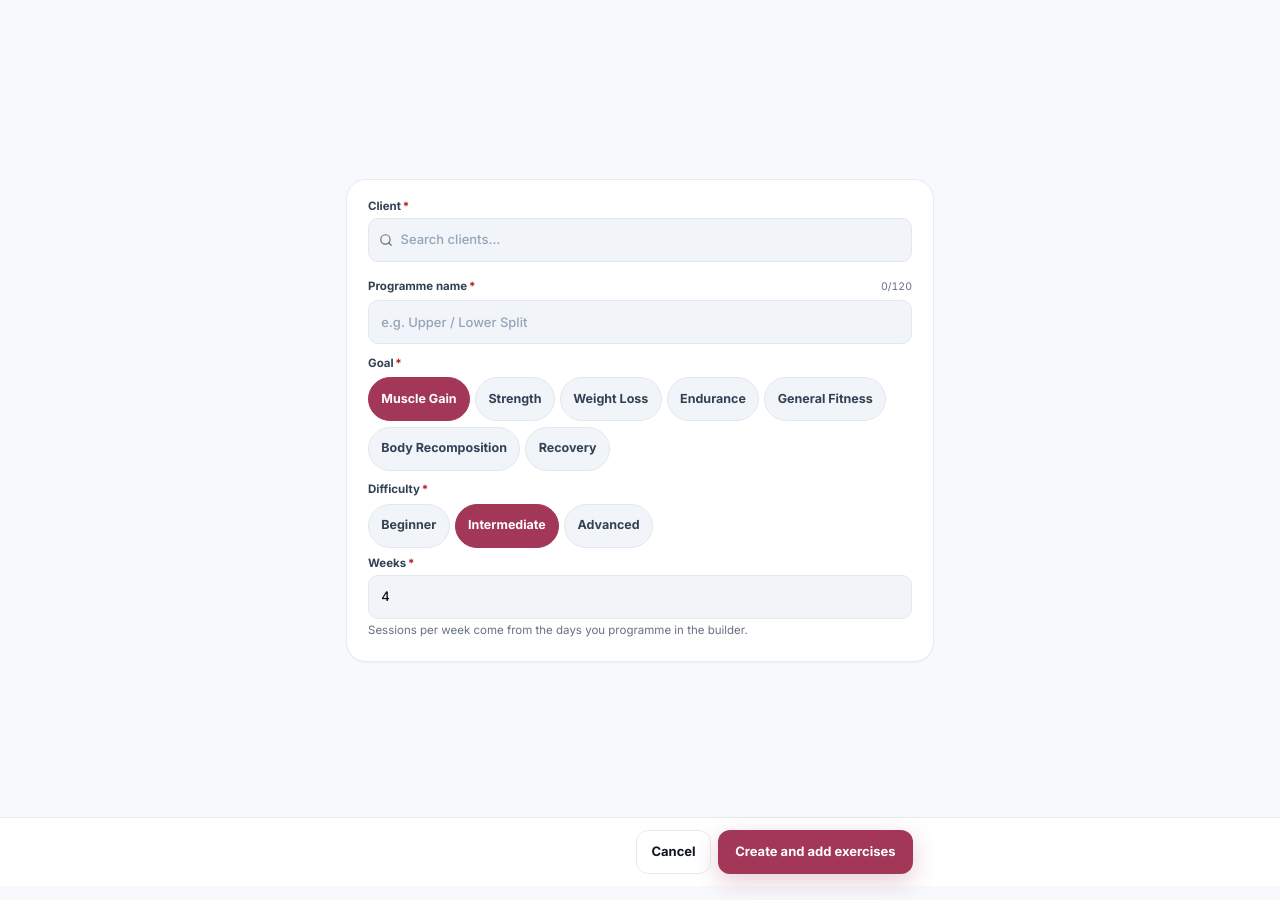
Scenario: NewProgrammeForm — the replacement for the deleted wizard › refuses to create without a client
Step 1. Type "Upper / Lower" into the field with placeholder "e.g. Upper / Lower Split" → (640, 322), box [368,300,912,344]
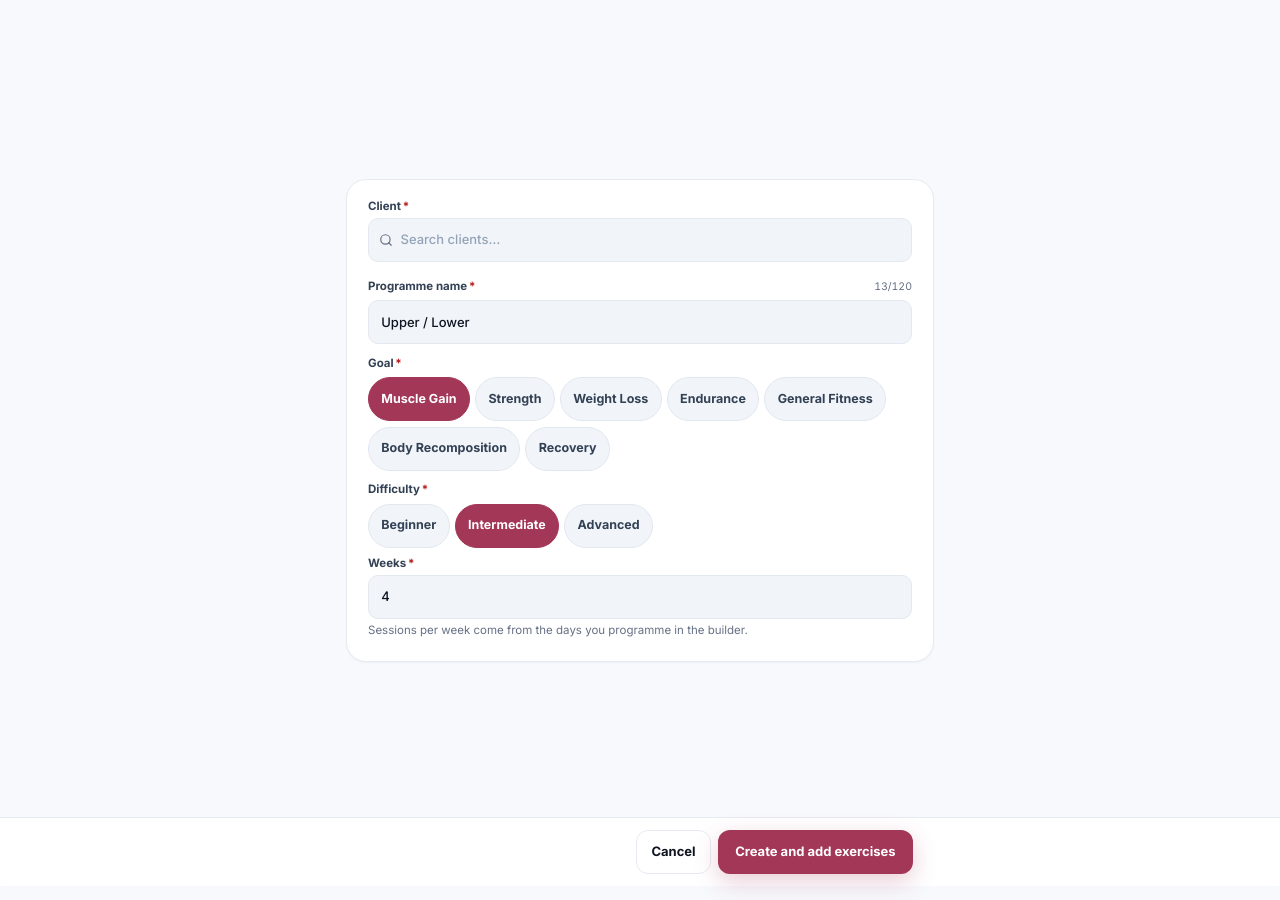
Step 2. Click the button "Create and add exercises" → (815, 852), box [718,830,913,874]
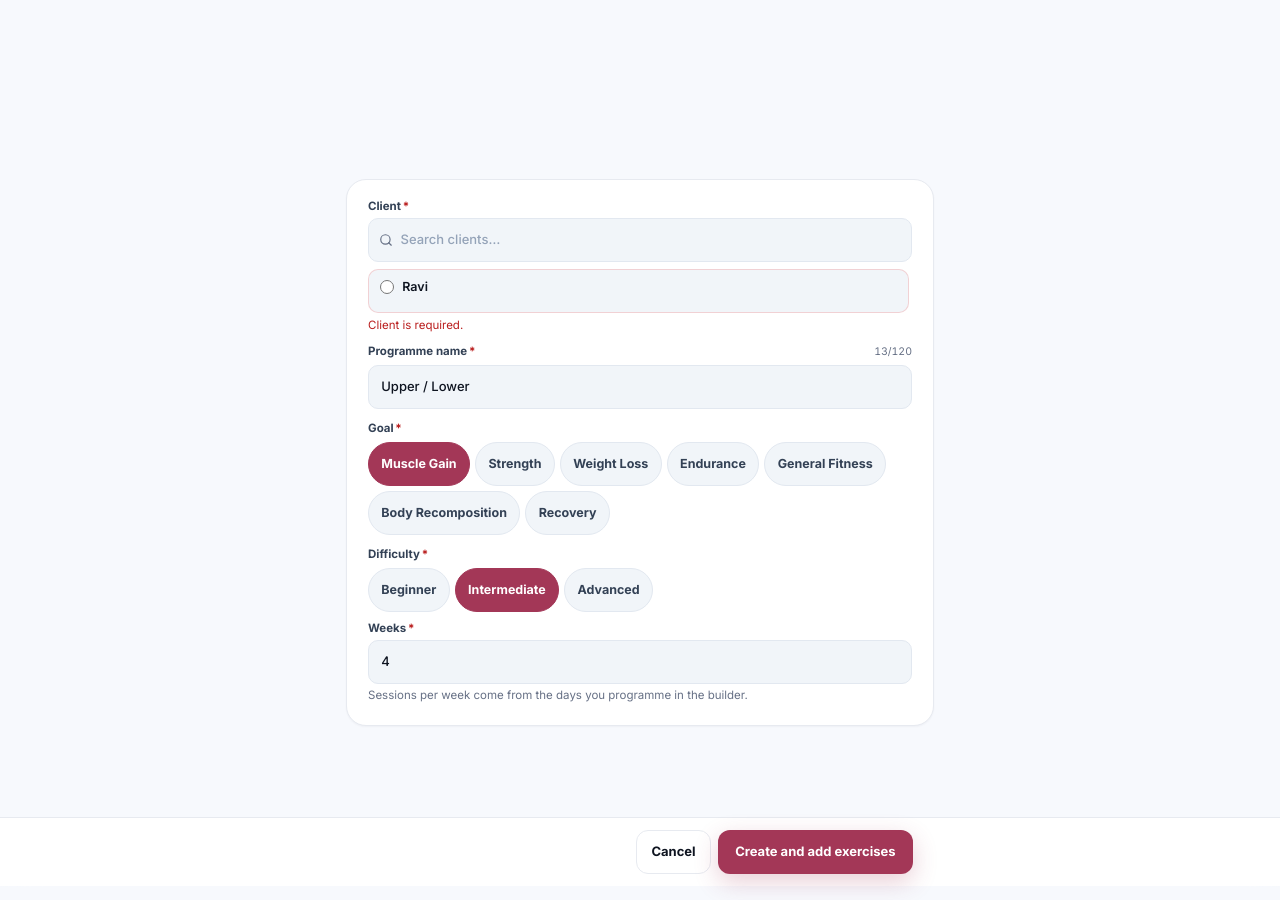
Now the text "Client is required." is shown, box [368,318,463,332]
